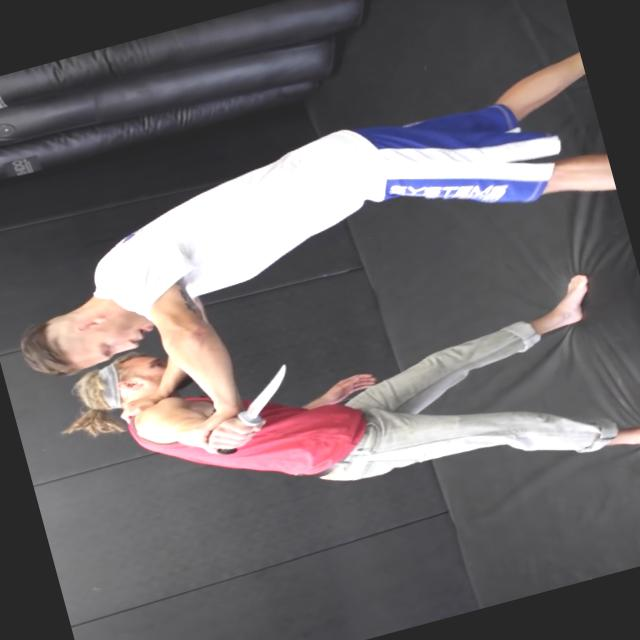knife: (187, 356, 315, 462)
